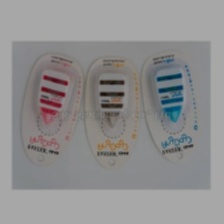book: (17, 51, 85, 169), (138, 49, 203, 165), (80, 53, 142, 172)
correction_fluid: (146, 62, 187, 125), (93, 69, 130, 129), (35, 67, 70, 125)
